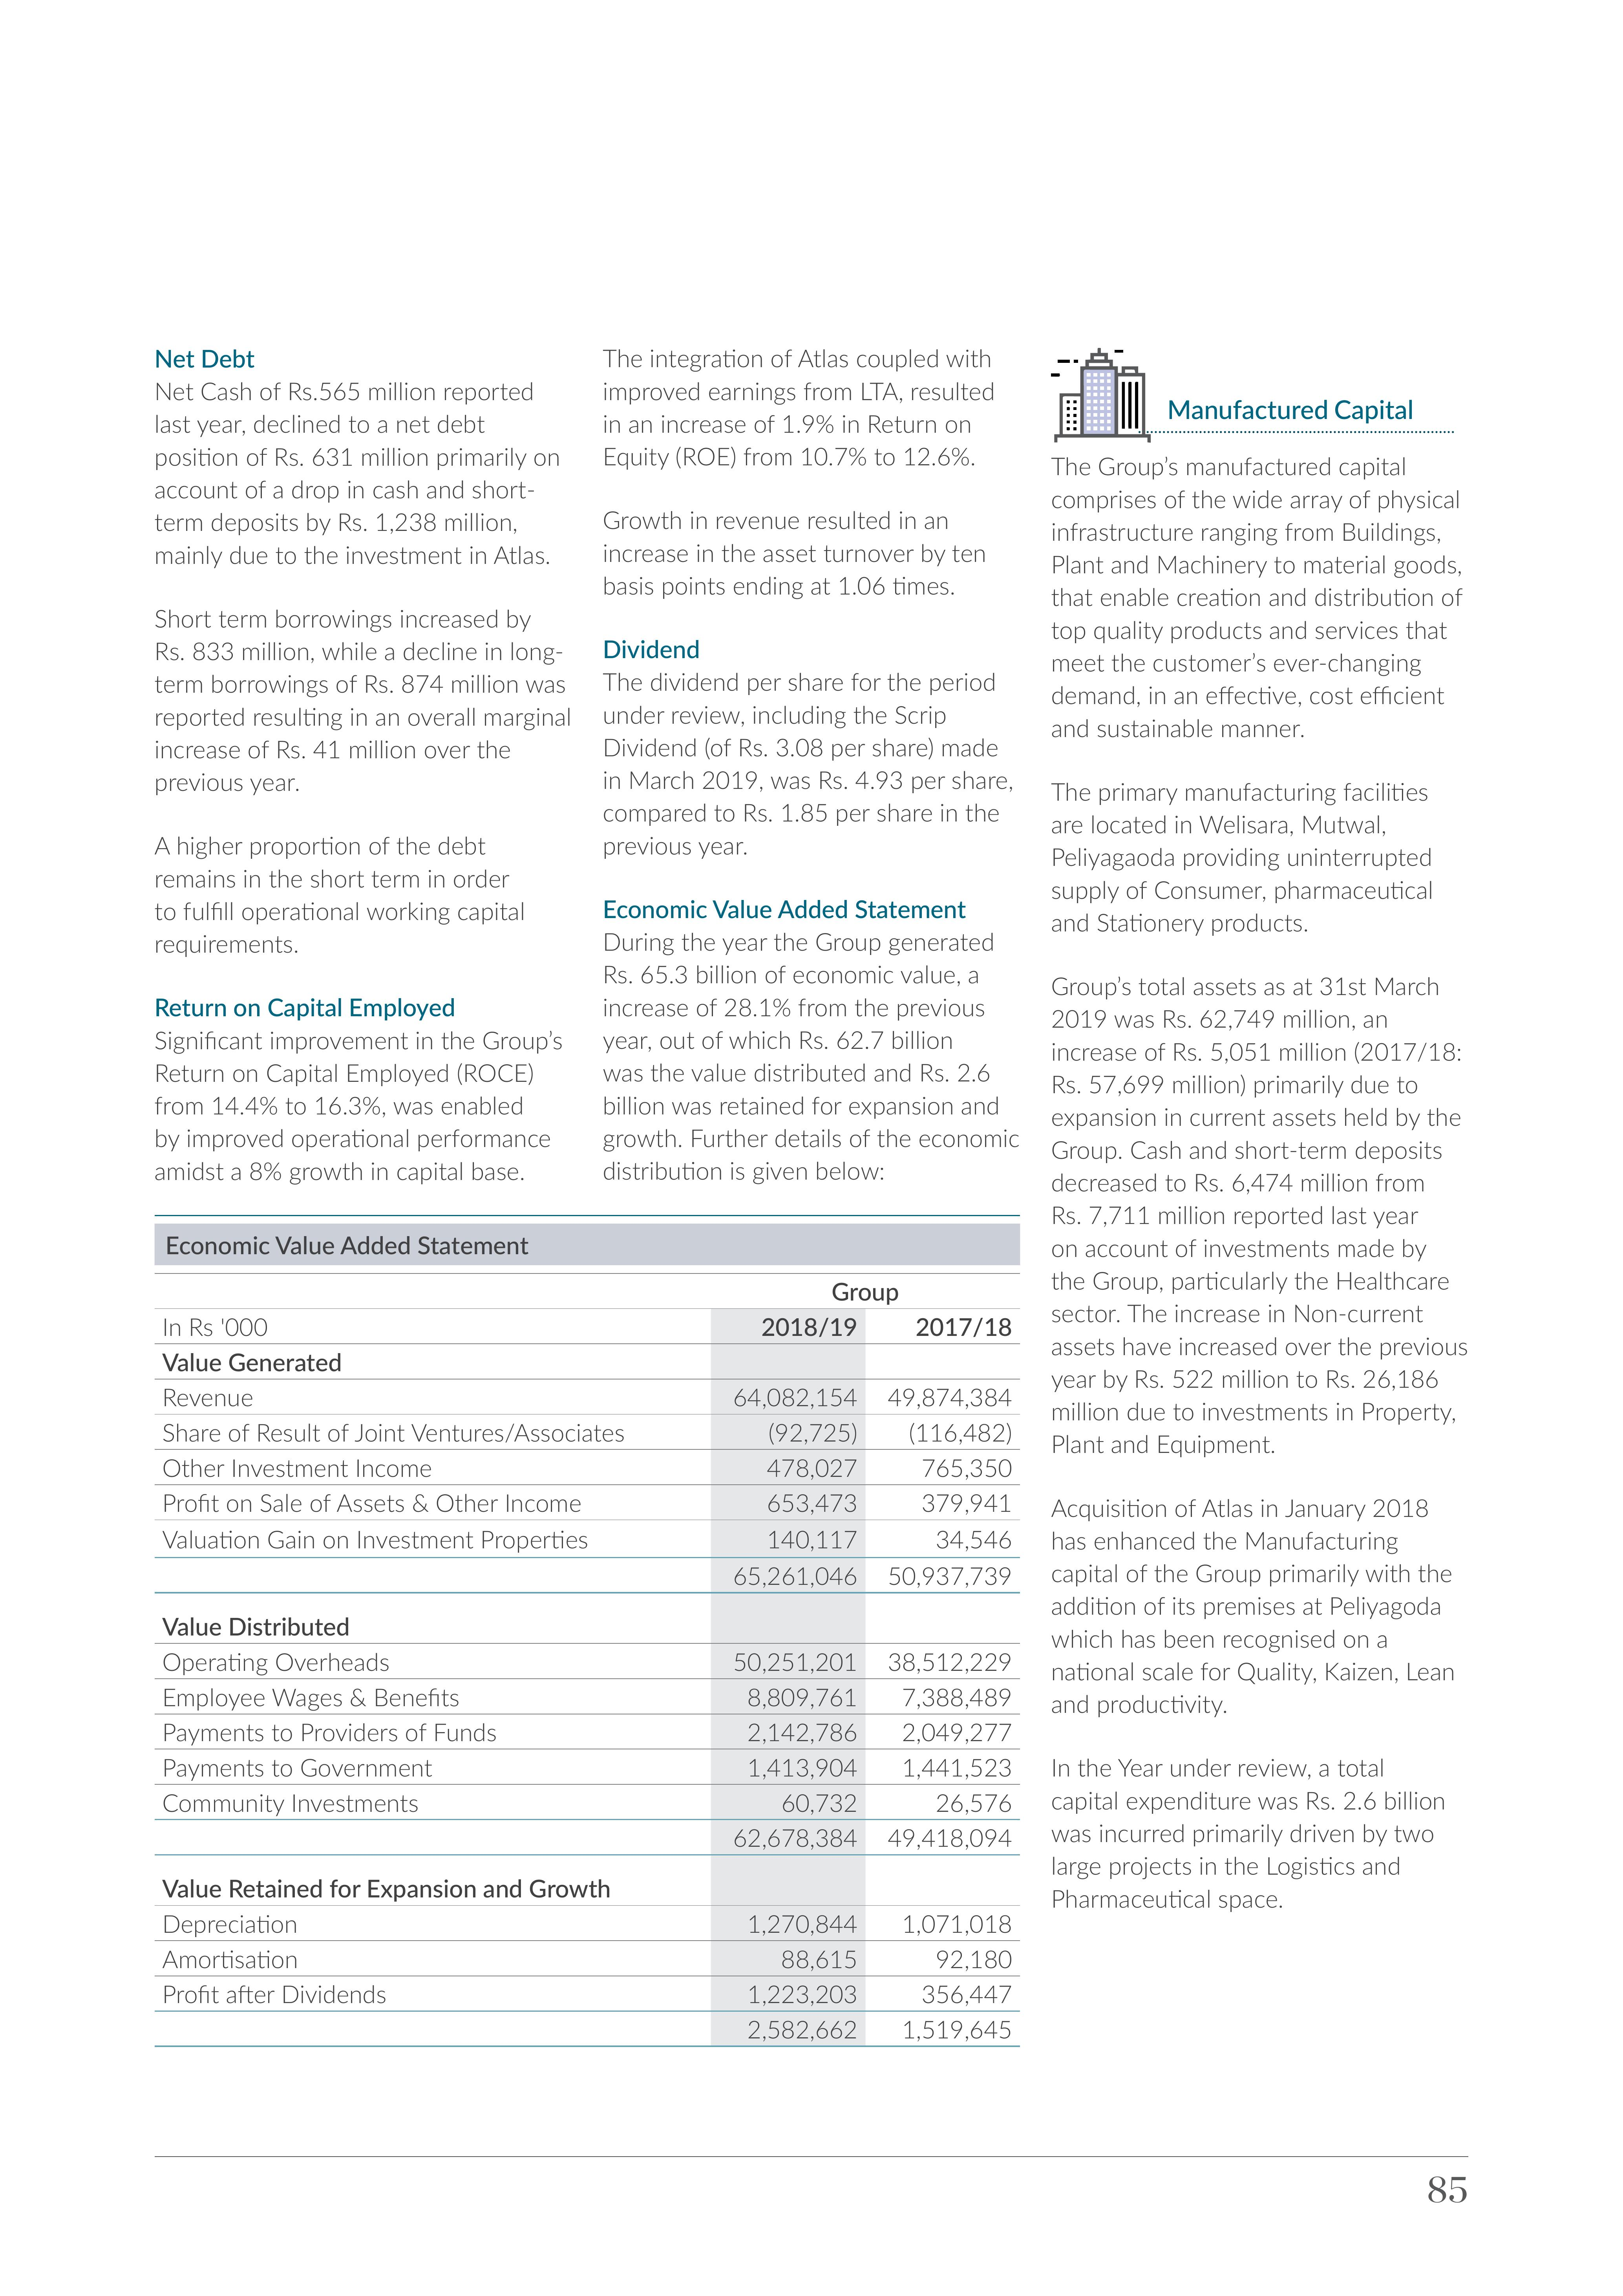table: (146, 1205, 1036, 2068)
